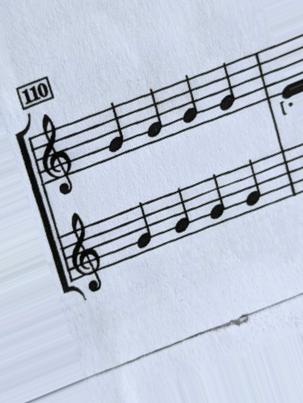G: (93, 101, 133, 156), (124, 199, 162, 252), (177, 72, 209, 129), (202, 175, 240, 222), (238, 155, 268, 212), (215, 61, 243, 120), (142, 88, 169, 144), (166, 189, 196, 237)
